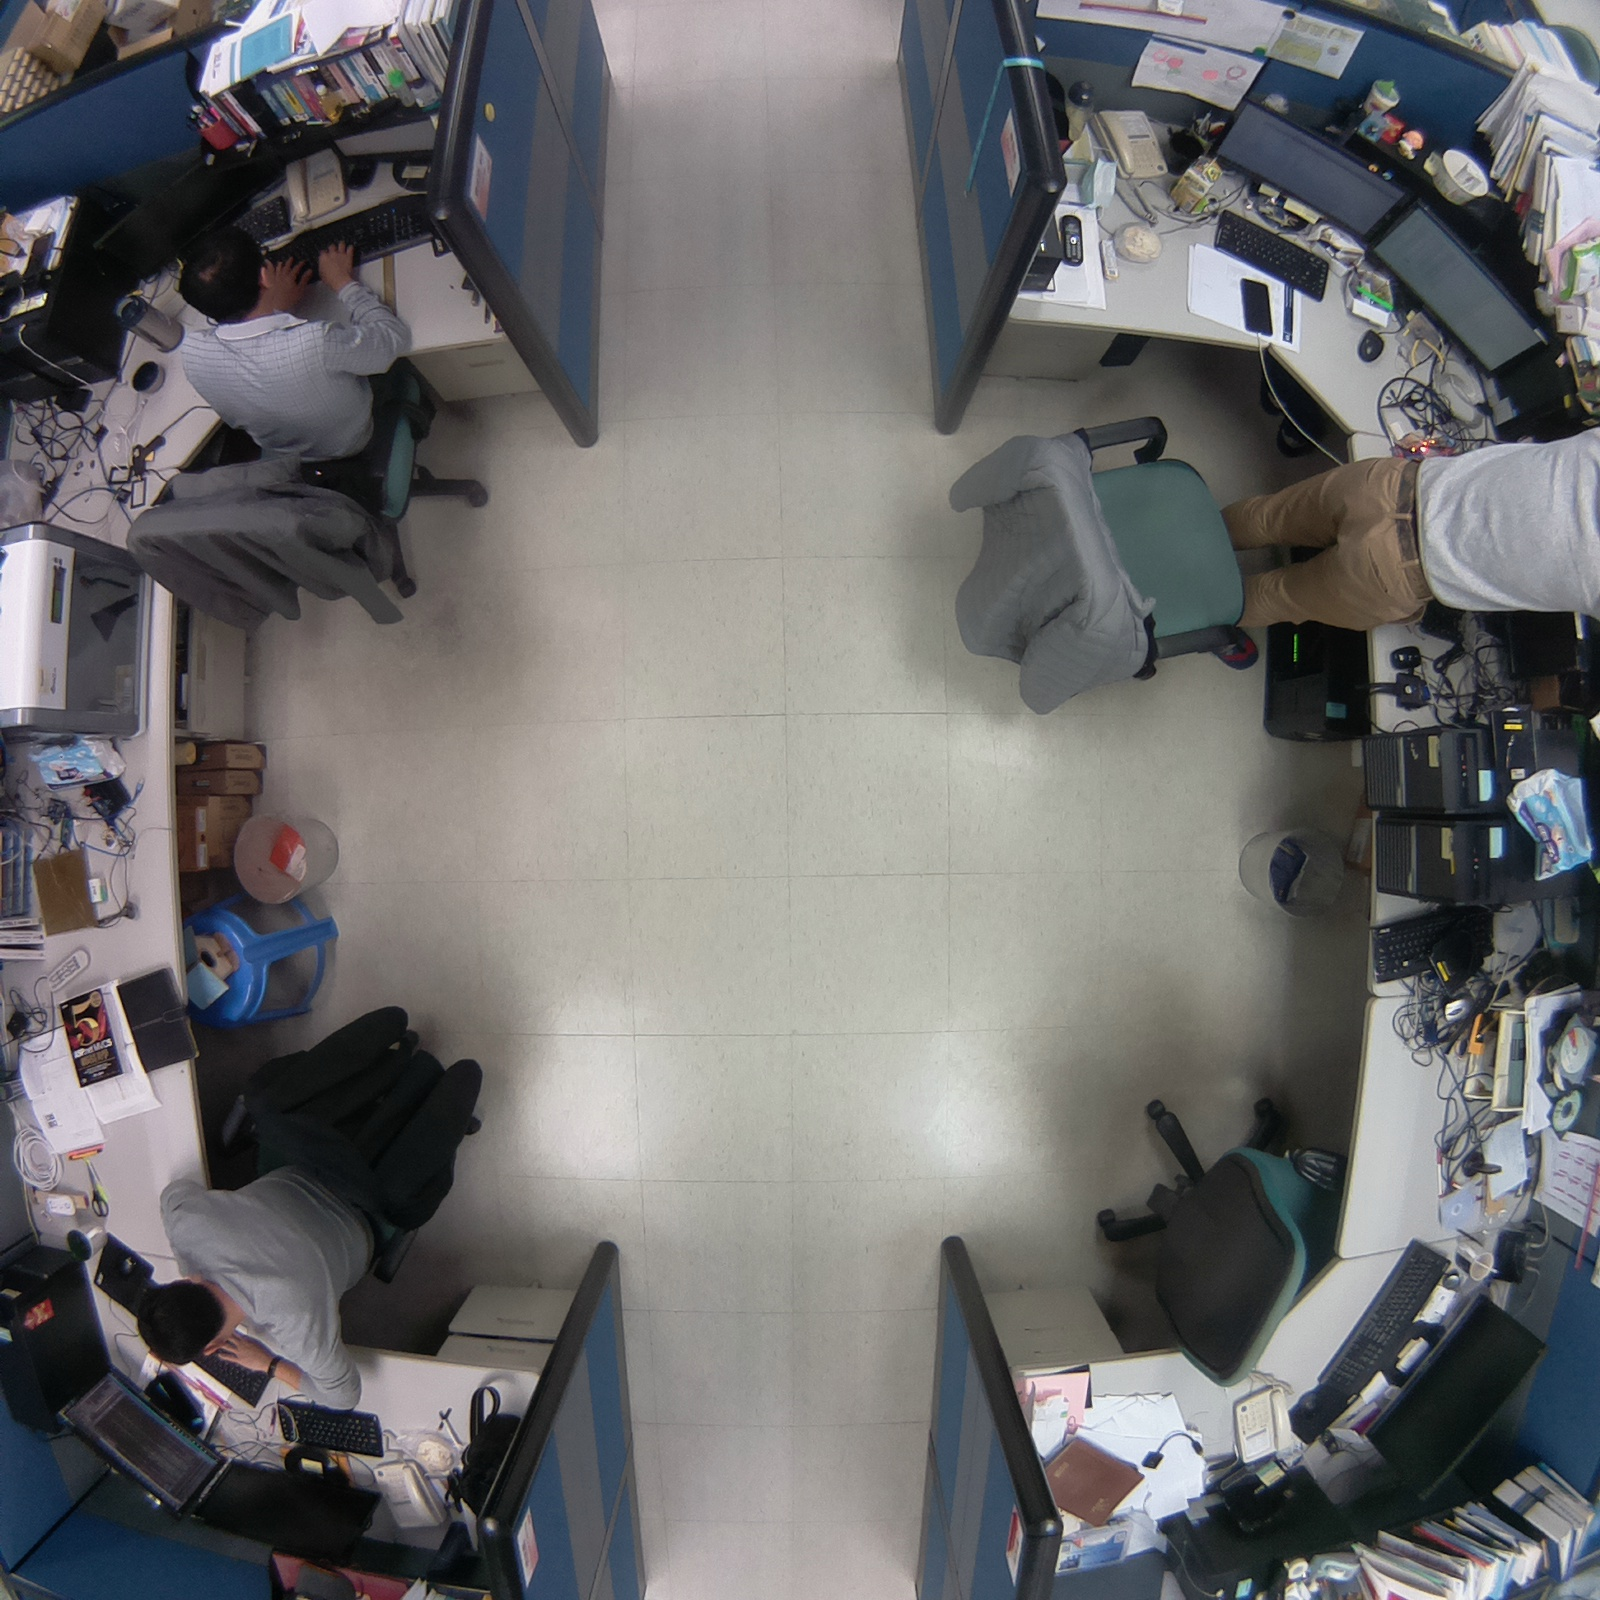chair: (932, 404, 1257, 727), (1062, 1075, 1348, 1401)
sitting: (110, 989, 530, 1442), (105, 215, 517, 649)
standing: (1182, 399, 1600, 681)
